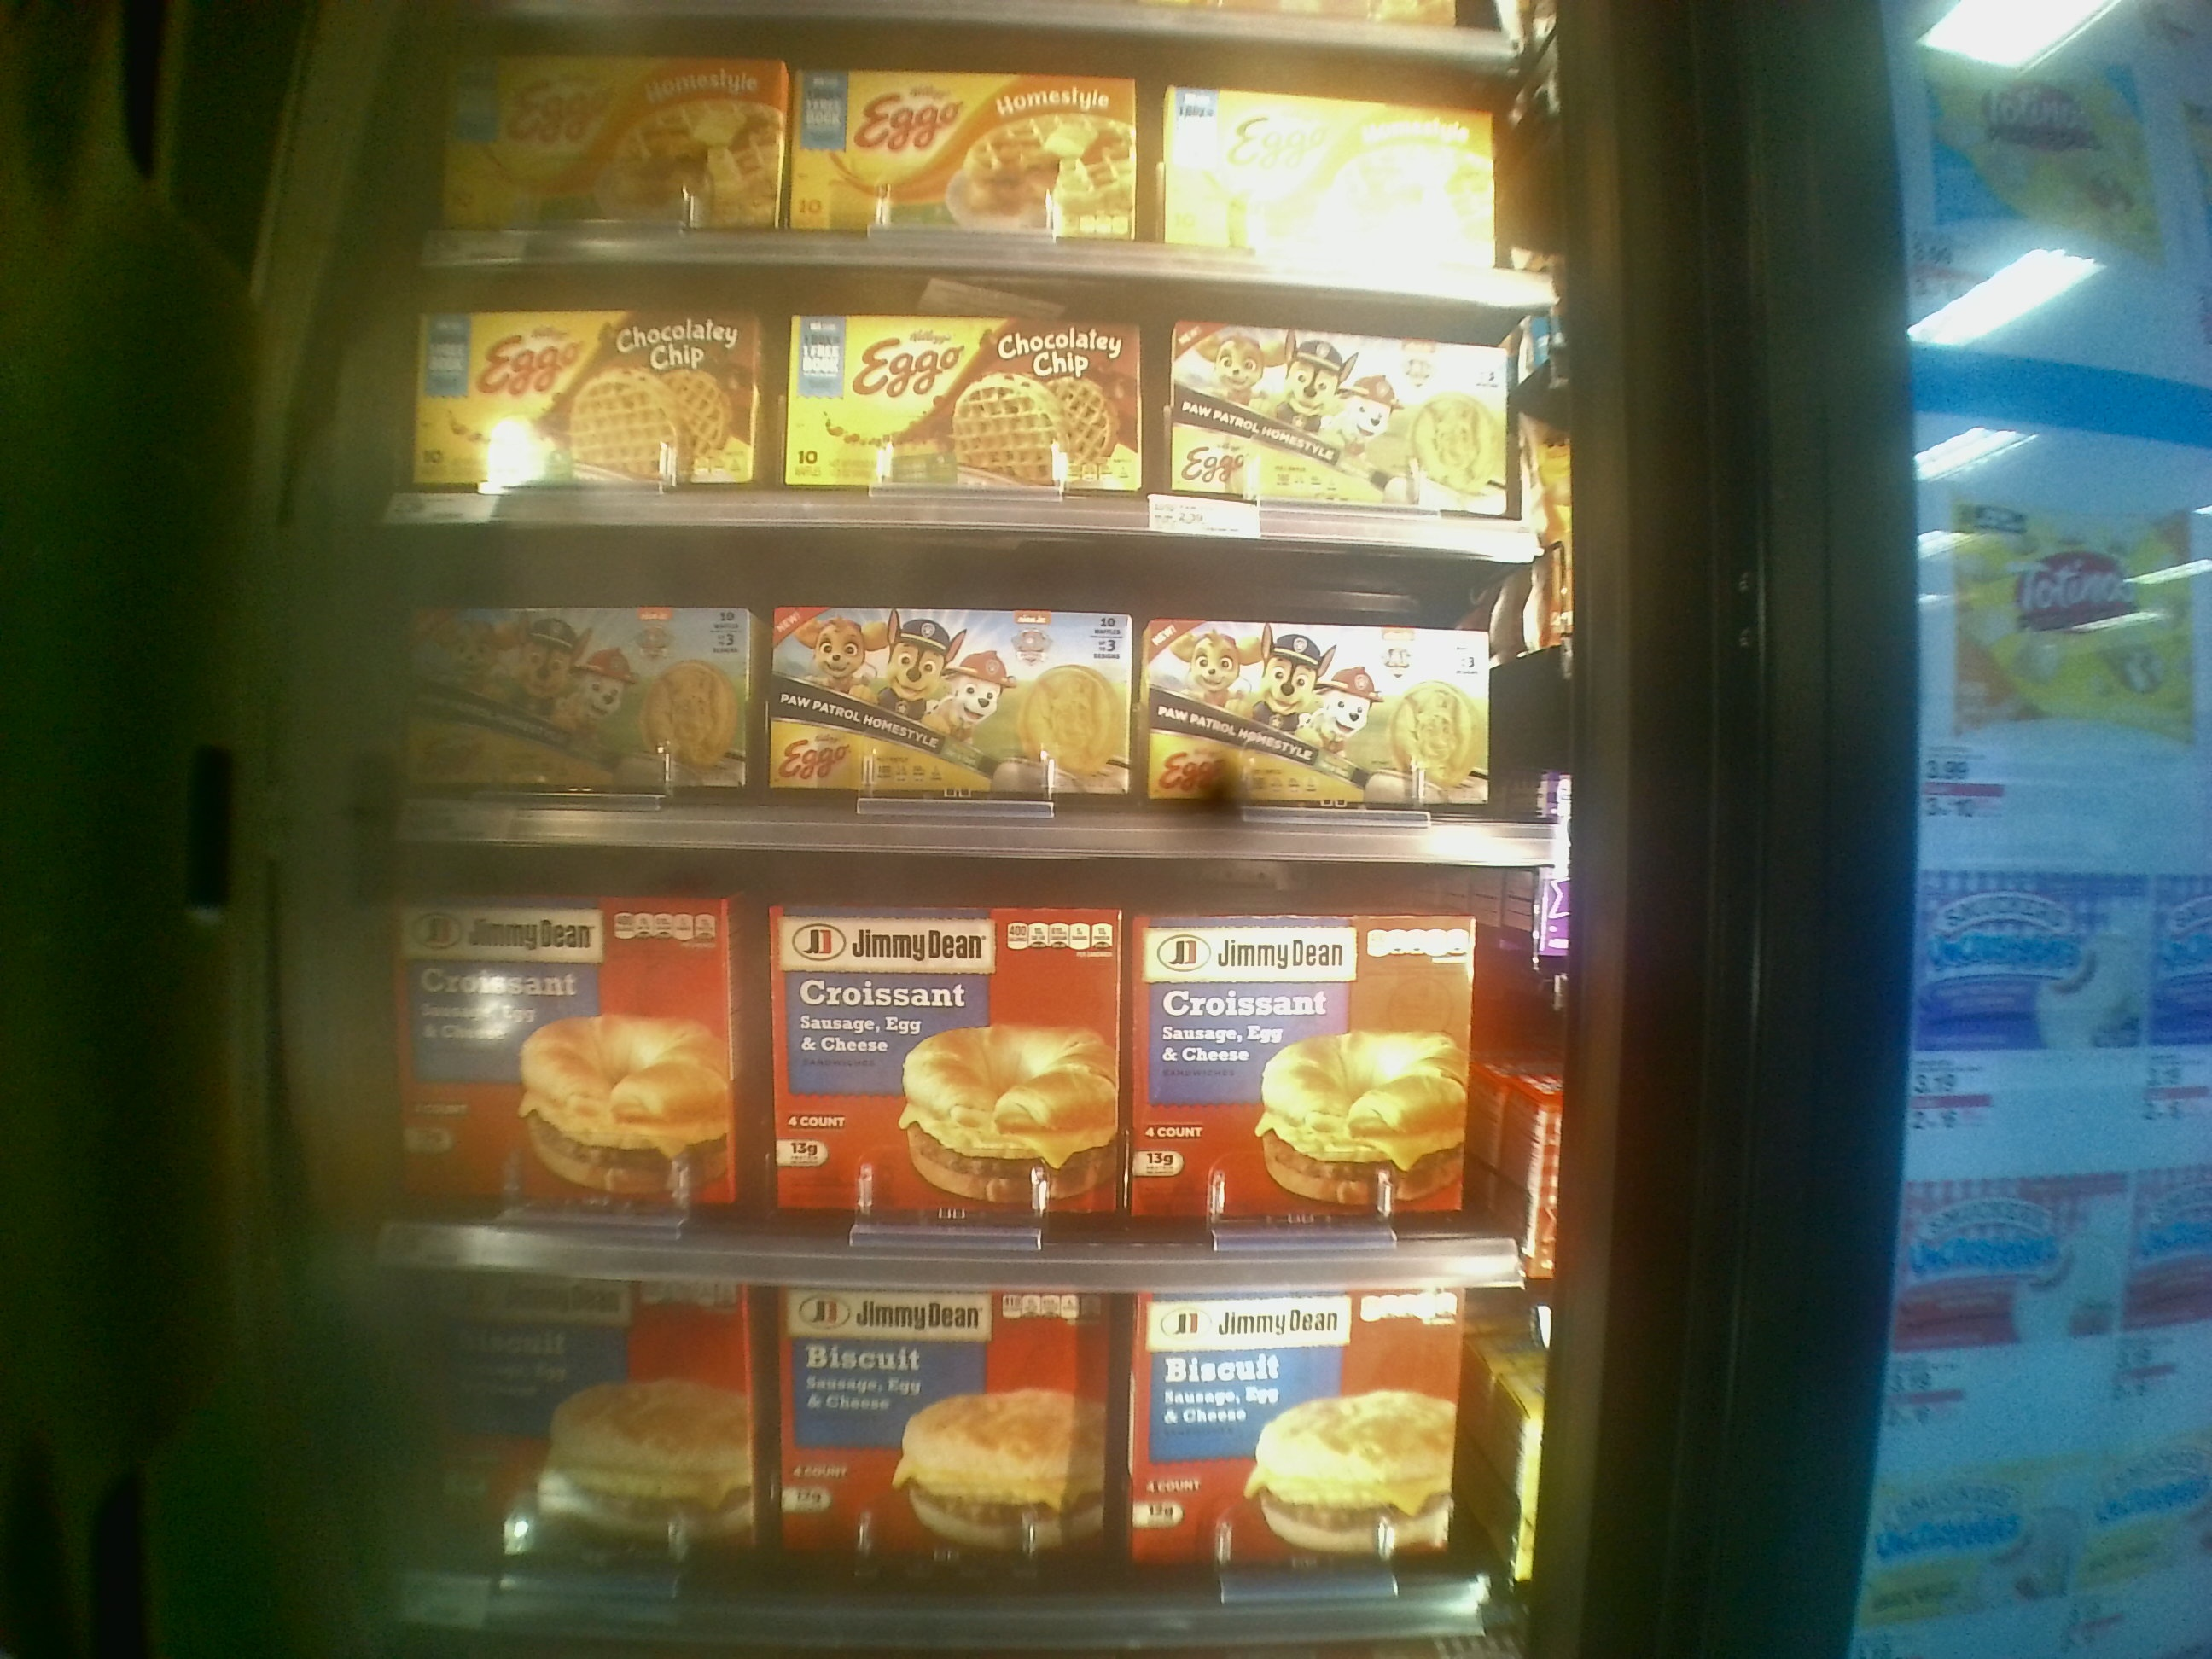shelf: (380, 847, 1545, 1298), (394, 518, 1548, 870), (395, 247, 1538, 563)
